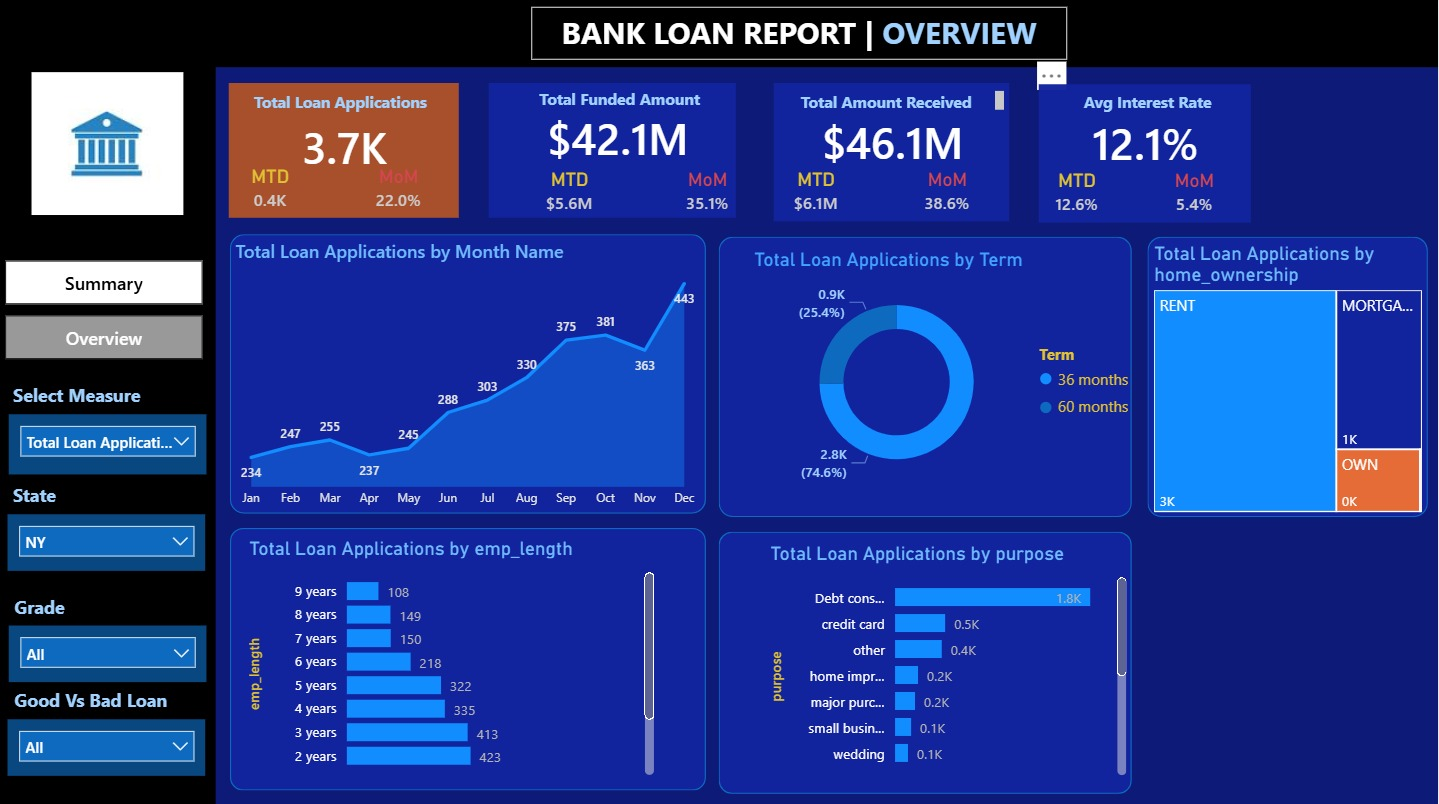

Layout of this report page (visuals, bound fields, positions):
{"tool":"powerbi","page":{"name":"Overview","canvas":[1280,720],"ordinal":1},"visuals":[{"type":"textbox","box":[204.3,75.2,205.1,120.3],"z":0,"group":"g1"},{"type":"textbox","box":[688.9,75.2,209.4,123],"z":0,"group":"g2"},{"type":"textbox","box":[924.5,76.5,189.1,123],"z":0,"group":"g3"},{"type":"shape","box":[205,210.5,423.7,248.7],"z":0},{"type":"shape","box":[0,0,1280.6,61.7],"z":1000},{"type":"textbox","box":[434.6,75.2,220,120.3],"z":1000,"group":"g4"},{"type":"card","fields":{"Values":["financial_loan.Total Amount Received"]},"box":[661,95,267.9,64.2],"z":1000,"group":"g2"},{"type":"card","fields":{"Values":["financial_loan.Avg Interest Rate"]},"box":[899.3,96.3,241.9,64.2],"z":1000,"group":"g3"},{"type":"card","fields":{"Values":["financial_loan.Total Loan Applications"]},"box":[176.3,100.6,262.4,62.8],"z":1000,"group":"g1"},{"type":"shape","box":[0,61.7,192,658.1],"z":2000},{"type":"textbox","box":[937.2,77.1,169.5,28.7],"z":2000,"group":"g3"},{"type":"textbox","box":[218,77.7,172,33.4],"z":2000,"group":"g1"},{"type":"textbox","box":[687,77.7,211.8,27.3],"z":2000,"group":"g2"},{"type":"textbox","box":[472.9,8.2,477,47.8],"z":3000},{"type":"card","fields":{"Values":["financial_loan.Total Funded Amount"]},"box":[409.1,91.6,281.5,64.2],"z":3000,"group":"g4"},{"type":"card","title":"MTD","fields":{"Values":["financial_loan.MTD Loan Applications"]},"box":[204.3,148.7,73.9,46.8],"z":3000,"group":"g1"},{"type":"card","title":"MTD","fields":{"Values":["financial_loan.MTD Total Amount received"]},"box":[688.9,150.4,75.4,47.8],"z":3000,"group":"g2"},{"type":"card","title":"MTD","fields":{"Values":["financial_loan.MTD Avg Int Rate"]},"box":[924.5,151.7,68.1,47.8],"z":3000,"group":"g3"},{"type":"group","id":"g1","title":"Group 1","box":[176.3,75.2,262.4,120.3],"z":4000},{"type":"card","title":"MoM","fields":{"Values":["financial_loan.MoM Loan Applications"]},"box":[307.5,148.7,95.5,46.8],"z":4000,"group":"g1"},{"type":"card","title":"MoM","fields":{"Values":["financial_loan.MoM Total Amount Receievd"]},"box":[794.2,150.4,97.5,47.8],"z":4000,"group":"g2"},{"type":"card","title":"MoM","fields":{"Values":["financial_loan.MoM Avg Int Rate"]},"box":[1019.6,151.7,88.1,47.8],"z":4000,"group":"g3"},{"type":"textbox","box":[439.2,75.2,224.1,30.1],"z":5000,"group":"g4"},{"type":"group","id":"g2","title":"Group 1","box":[661,75.2,267.9,123],"z":5000},{"type":"group","id":"g3","title":"Group 1","box":[899.3,76.5,241.9,123],"z":6000},{"type":"card","title":"MTD","fields":{"Values":["financial_loan.MTD Funded Amount"]},"box":[467.1,150.4,79.3,47.8],"z":6000,"group":"g4"},{"type":"group","id":"g4","title":"Group 2","box":[409.1,75.2,281.5,123],"z":7000},{"type":"card","title":"MoM","fields":{"Values":["financial_loan.MoM Total Funded Amount"]},"box":[577.8,150.4,102.5,47.8],"z":7000,"group":"g4"},{"type":"slicer","fields":{"Values":["financial_loan.address_state"]},"box":[6.8,459.2,176.3,50.6],"z":8000},{"type":"textbox","box":[6.8,426.4,61.5,32.8],"z":9000},{"type":"slicer","fields":{"Values":["financial_loan.grade"]},"box":[8.2,559,176.3,50.6],"z":10000},{"type":"textbox","box":[8.2,526.2,72.4,32.8],"z":11000},{"type":"slicer","fields":{"Values":["financial_loan.Good Vs Bad Loan"]},"box":[6.8,642.3,176.3,50.6],"z":12000},{"type":"textbox","box":[8.1,609.1,168.2,33.9],"z":13000},{"type":"areaChart","fields":{"Y":["financial_loan.Total Loan Applications"],"Category":["Date Table.Month Name"]},"box":[205,213.2,423.7,248.7],"z":14000},{"type":"slicer","fields":{"Values":["select the measure.select the measure"]},"box":[8.2,370.4,176.3,53.3],"z":15000},{"type":"textbox","box":[6.8,337.6,169.5,32.8],"z":16000},{"type":"shape","box":[640.3,213,367.6,249.6],"z":17000},{"type":"shape","box":[205,471.5,423.7,233.7],"z":18000},{"type":"donutChart","fields":{"Y":["financial_loan.Total Loan Applications"],"Category":["financial_loan.term"]},"box":[666.9,222.8,352.6,220],"z":19000},{"type":"barChart","fields":{"Y":["financial_loan.Total Loan Applications"],"Category":["financial_loan.emp_length"]},"box":[217.3,479.7,370.4,217.3],"z":20000},{"type":"shape","box":[640.3,474.8,367.6,233.3],"z":21000},{"type":"barChart","fields":{"Y":["financial_loan.Total Loan Applications"],"Category":["financial_loan.purpose"]},"box":[681,484.3,326.9,213],"z":22000},{"type":"shape","box":[1021.5,213,249.6,249.6],"z":23000},{"type":"treemap","fields":{"Values":["financial_loan.Total Loan Applications"],"Group":["financial_loan.home_ownership"]},"box":[1022.8,217,248.2,245.5],"z":24000},{"type":"image","box":[14.9,61,162.8,137],"z":25000},{"type":"pageNavigator","box":[4.1,233.3,176.3,89.5],"z":26000}]}

Visuals, with their boxes in screenshot pixels (x1, y1, x2, y2), scaled from the page's 1280x720 canvas onto the 1439x804 screenshot:
textbox: <region>230, 84, 460, 218</region>
textbox: <region>774, 84, 1010, 221</region>
textbox: <region>1039, 85, 1252, 223</region>
shape: <region>230, 235, 707, 513</region>
shape: <region>0, 0, 1438, 69</region>
textbox: <region>489, 84, 736, 218</region>
card - financial_loan.Total Amount Received: <region>743, 106, 1044, 178</region>
card - financial_loan.Avg Interest Rate: <region>1011, 108, 1283, 179</region>
card - financial_loan.Total Loan Applications: <region>198, 112, 493, 182</region>
shape: <region>0, 69, 216, 803</region>
textbox: <region>1054, 86, 1244, 118</region>
textbox: <region>245, 87, 438, 124</region>
textbox: <region>772, 87, 1010, 117</region>
textbox: <region>532, 9, 1068, 63</region>
card - financial_loan.Total Funded Amount: <region>460, 102, 776, 174</region>
"MTD" card: <region>230, 166, 313, 218</region>
"MTD" card: <region>774, 168, 859, 221</region>
"MTD" card: <region>1039, 169, 1116, 223</region>
"Group 1" group: <region>198, 84, 493, 218</region>
"MoM" card: <region>346, 166, 453, 218</region>
"MoM" card: <region>893, 168, 1002, 221</region>
"MoM" card: <region>1146, 169, 1245, 223</region>
textbox: <region>494, 84, 746, 118</region>
"Group 1" group: <region>743, 84, 1044, 221</region>
"Group 1" group: <region>1011, 85, 1283, 223</region>
"MTD" card: <region>525, 168, 614, 221</region>
"Group 2" group: <region>460, 84, 776, 221</region>
"MoM" card: <region>650, 168, 765, 221</region>
slicer - financial_loan.address_state: <region>8, 513, 206, 569</region>
textbox: <region>8, 476, 77, 513</region>
slicer - financial_loan.grade: <region>9, 624, 207, 681</region>
textbox: <region>9, 588, 91, 624</region>
slicer - financial_loan.Good Vs Bad Loan: <region>8, 717, 206, 774</region>
textbox: <region>9, 680, 198, 718</region>
areaChart - financial_loan.Total Loan Applications x Date Table.Month Name: <region>230, 238, 707, 516</region>
slicer - select the measure.select the measure: <region>9, 414, 207, 473</region>
textbox: <region>8, 377, 198, 414</region>
shape: <region>720, 238, 1133, 517</region>
shape: <region>230, 527, 707, 787</region>
donutChart - financial_loan.Total Loan Applications x financial_loan.term: <region>750, 249, 1146, 494</region>
barChart - financial_loan.Total Loan Applications x financial_loan.emp_length: <region>244, 536, 661, 778</region>
shape: <region>720, 530, 1133, 791</region>
barChart - financial_loan.Total Loan Applications x financial_loan.purpose: <region>766, 541, 1133, 779</region>
shape: <region>1148, 238, 1429, 517</region>
treemap - financial_loan.Total Loan Applications x financial_loan.home_ownership: <region>1150, 242, 1429, 516</region>
image: <region>17, 68, 200, 221</region>
pageNavigator: <region>5, 261, 203, 360</region>
